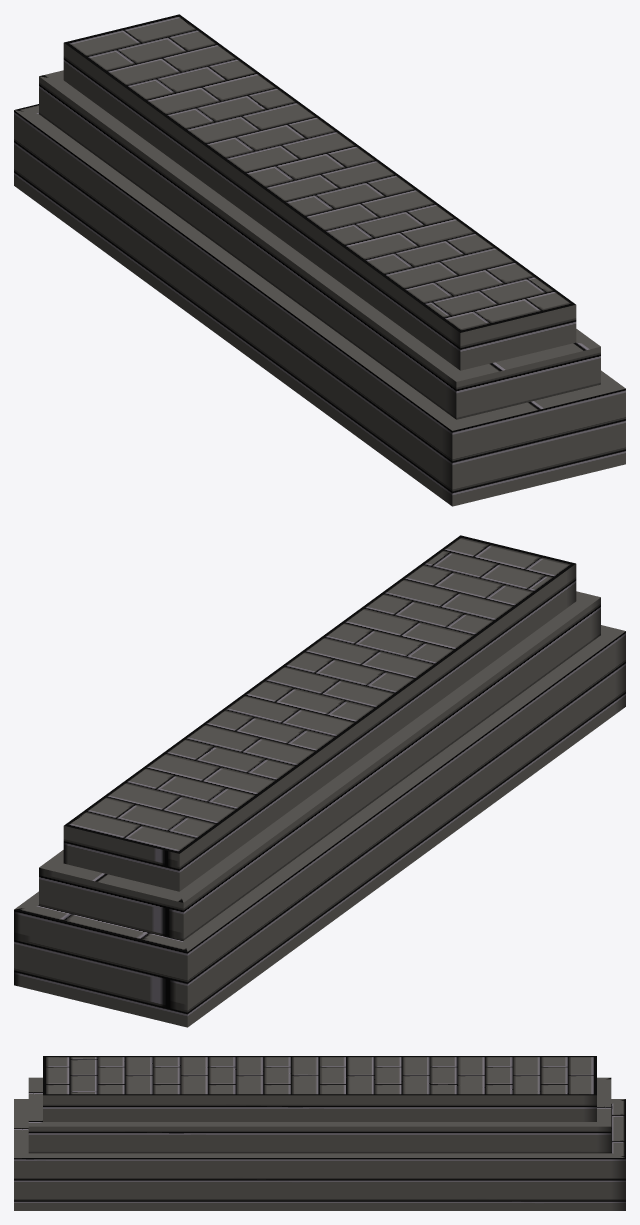
Rendered from stone.fbx.
The picture shows the model from 3 angles, top to bottom: view 1: azimuth 30°, elevation 25°; view 2: azimuth 150°, elevation 25°; view 3: azimuth 270°, elevation 25°; orthographic projection. The views are drawn at different scales.
Visible parts, largest first — view 1: Cube; view 2: Cube; view 3: Cube.
Boxes of the visible parts, x1,y1,x2,y2 form: Cube: (14, 14, 625, 506); Cube: (14, 535, 625, 1027); Cube: (14, 1056, 625, 1210).
Bounding box in the file's own units: 720 × 600 × 3150.
1 material, 1 textured.
